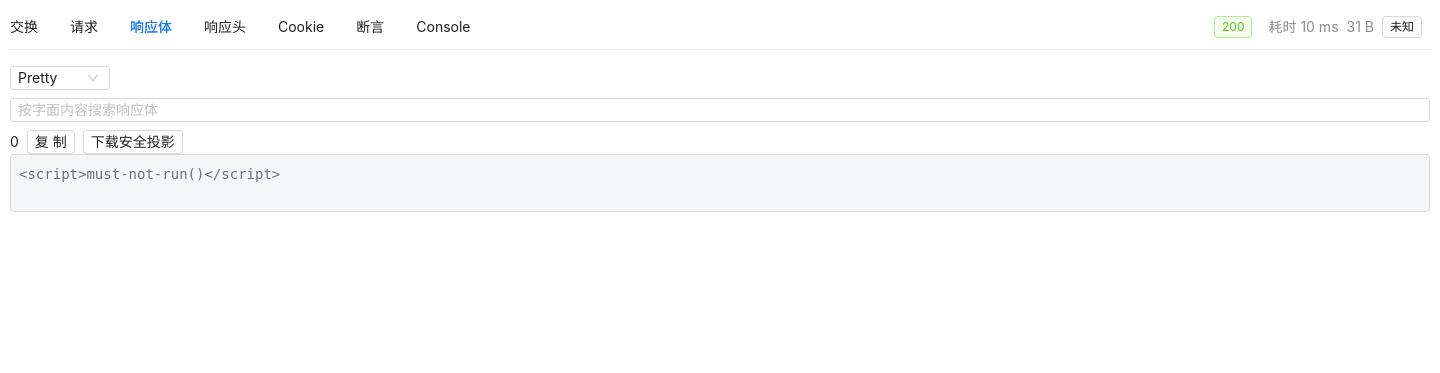
ResponseViewer › renders a P3 exchange projection as inert text and leaves absent byte counters unknown
The width and height of the screenshot is (1440, 373).
Click the tab with test id "response-tab-exchanges": (24, 27) [10,16,38,38]
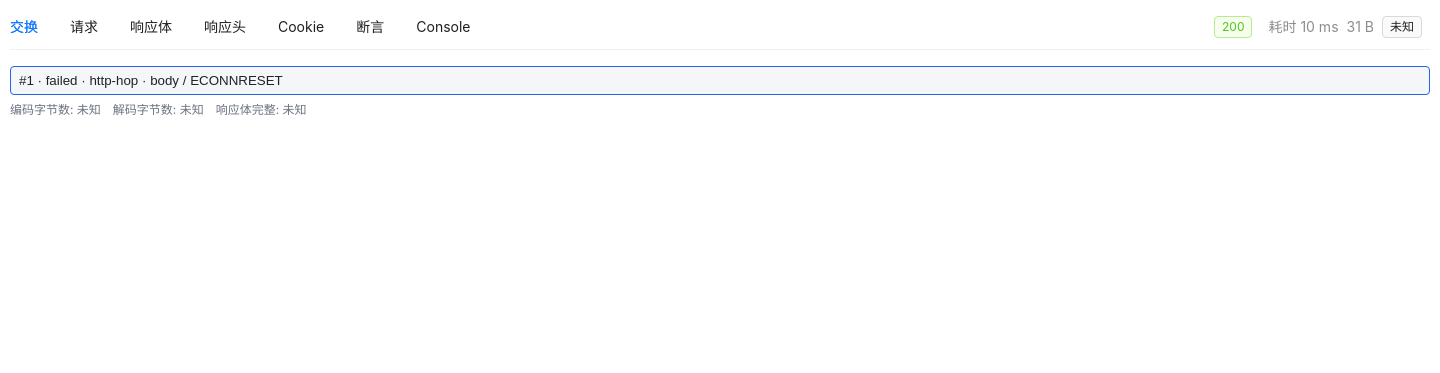
Result: the element with test id "response-exchanges" shows "未知" at [10,102,101,117]
Result: the button with test id "response-exchange-1" shows "body" at [10,66,1430,95]
Result: the button with test id "response-exchange-1" shows "ECONNRESET" at [10,66,1430,95]
Click the tab with test id "response-tab-request": (84, 27) [70,16,98,38]
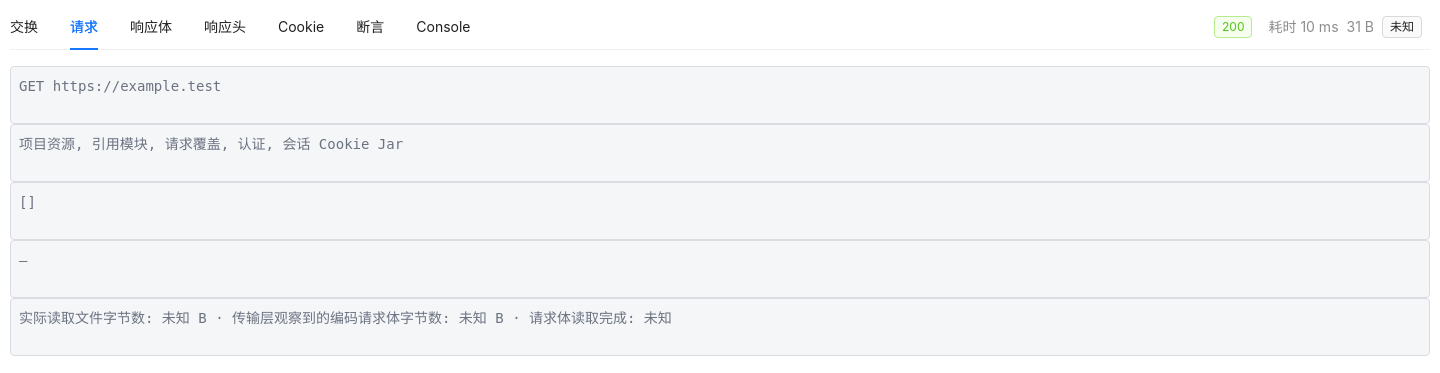
Result: the text with test id "response-request-sources" shows "项目资源" at [19,136,403,152]
Result: the text with test id "response-request-sources" shows "会话 Cookie Jar" at [19,136,403,152]
